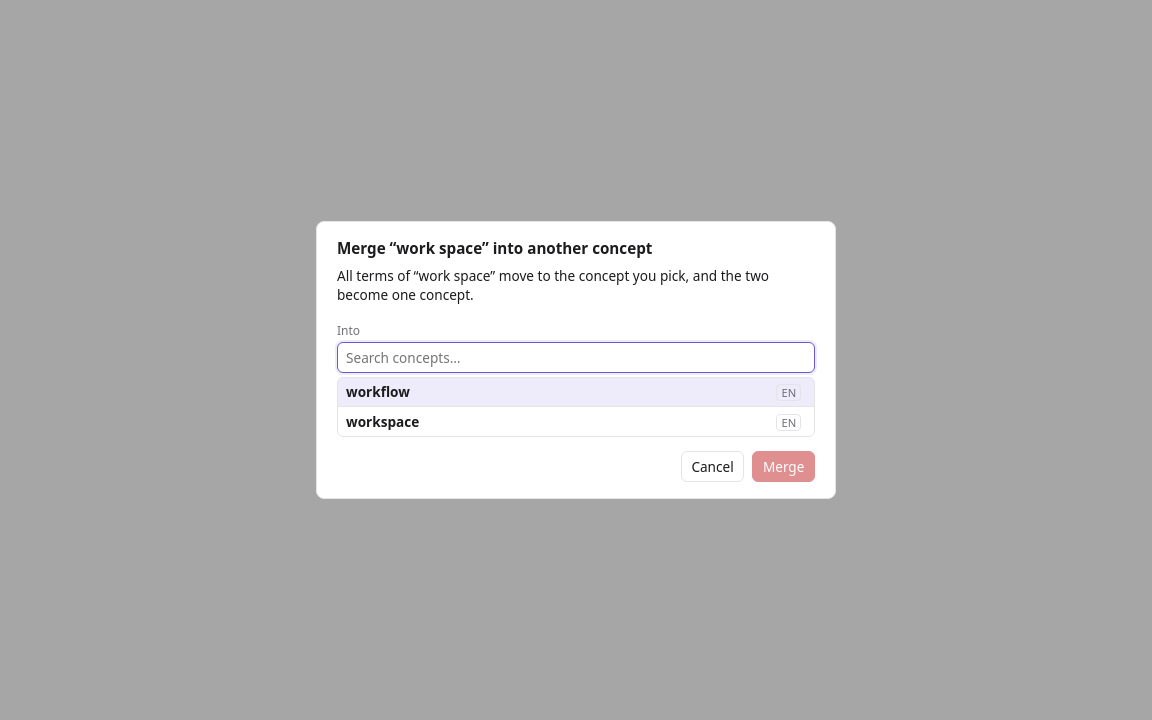
Test: MergeDialog › shows everything the result can contain
This screenshot has width=1152, height=720.
Click the option "workspace EN": (383, 421) [338,407,814,436]
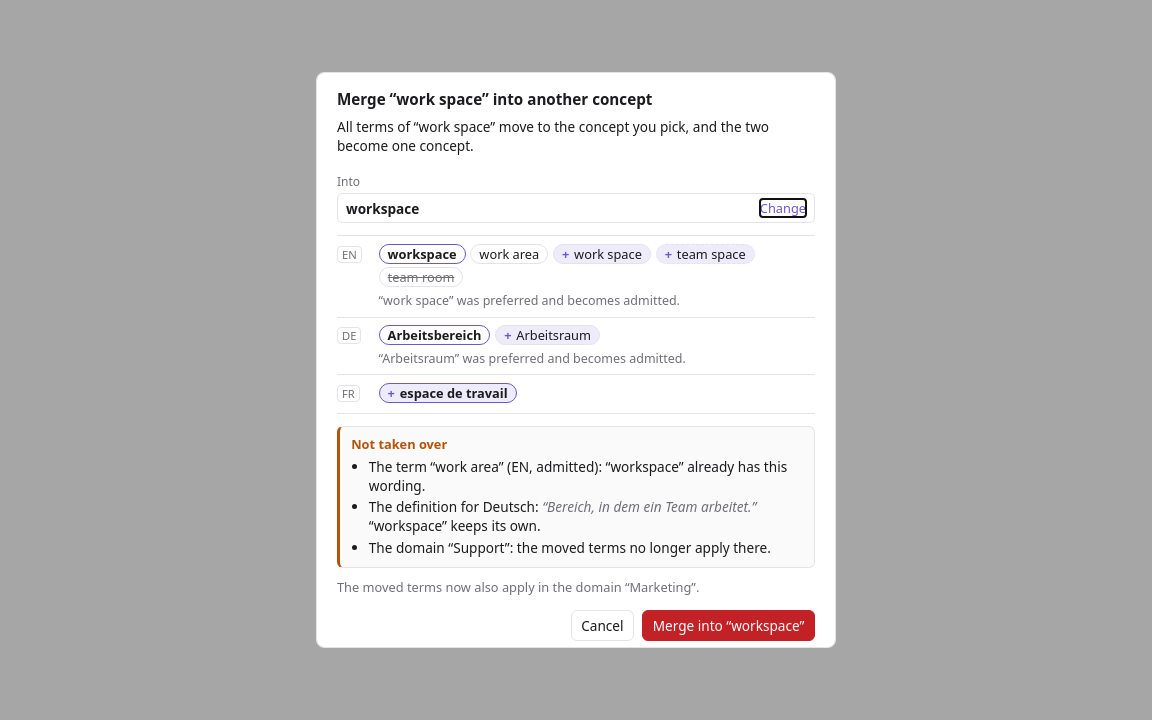
Expected: the heading "Not taken over" is shown, [351,435,447,453]
Expected: the picture "+ work space" is shown, [553,244,651,264]
Expected: the text "“work space” was preferred and becomes admitted." is shown, [379,292,680,309]
